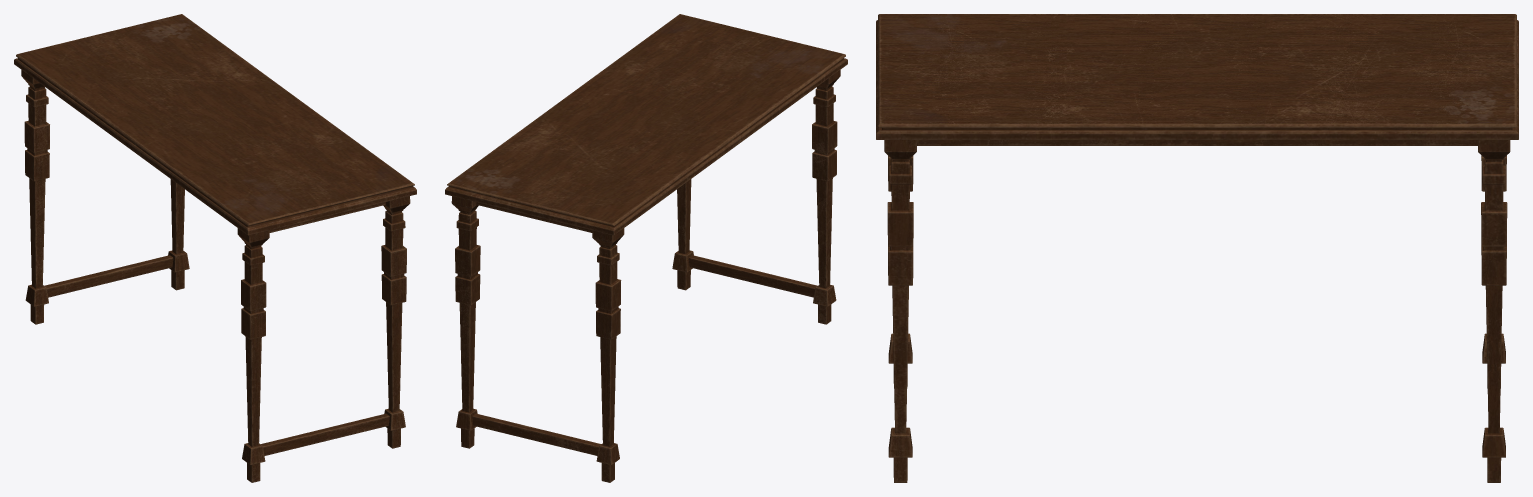
The model's file is WoodenTable.fbx.
3 views of the same model, side by side, from view 1: azimuth 30°, elevation 25°; view 2: azimuth 150°, elevation 25°; view 3: azimuth 270°, elevation 25° (orthographic). The views are drawn at different scales.
Visible parts, largest first — view 1: SM_WoodenTable; view 2: SM_WoodenTable; view 3: SM_WoodenTable.
Boxes of the visible parts, left/top/right/bottom form: SM_WoodenTable: left=14, top=14, right=416, bottom=482; SM_WoodenTable: left=445, top=14, right=847, bottom=482; SM_WoodenTable: left=876, top=14, right=1518, bottom=482.
Size of the model in its own units: 50 by 75 by 120.
Materials: 1 (1 with a texture image).
